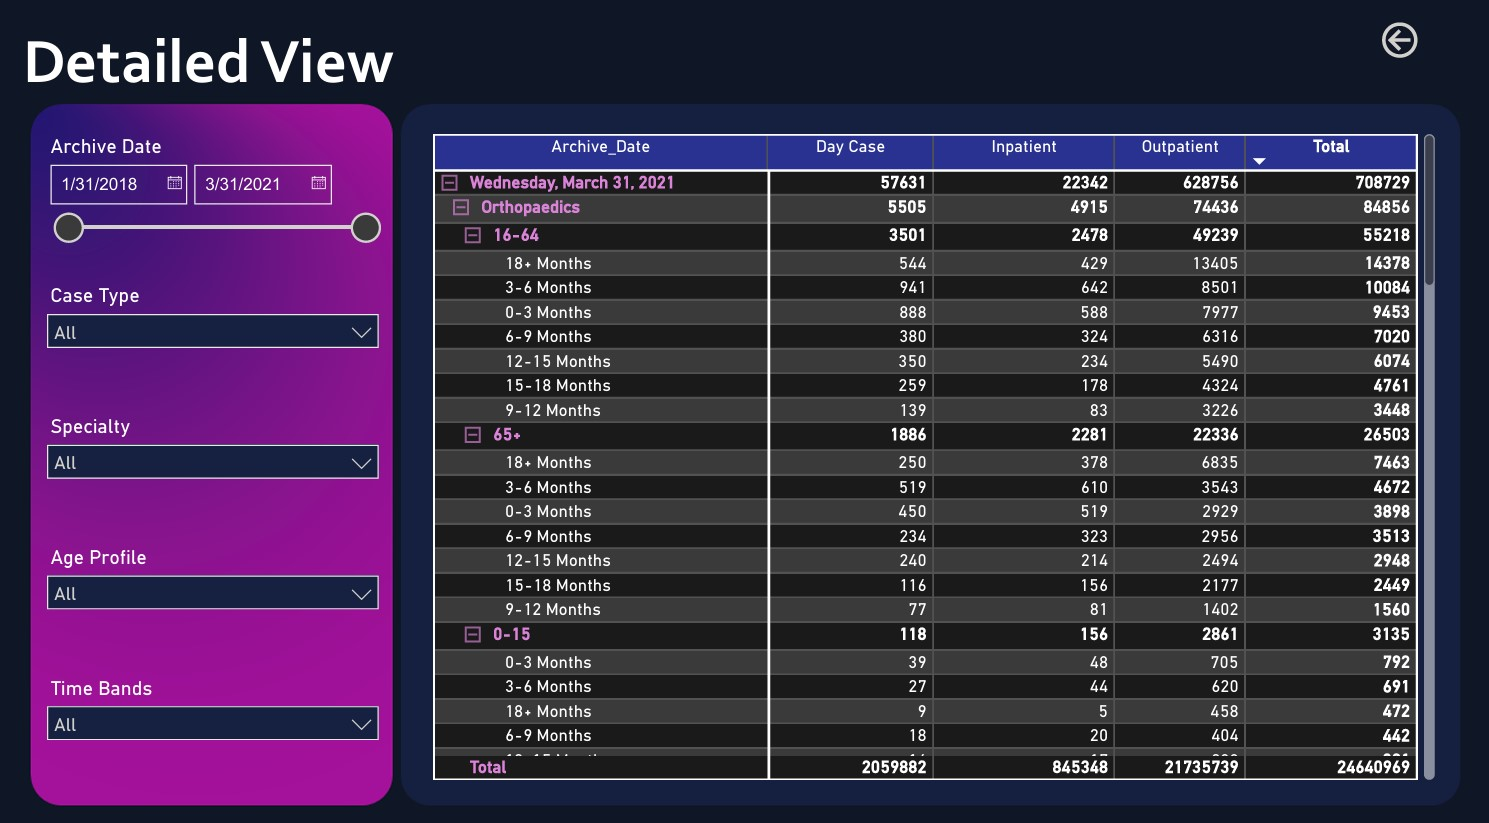

What the dashboard file says about the page in this screenshot:
{"tool":"powerbi","page":{"name":"Detailed","canvas":[1280,720],"ordinal":1},"visuals":[{"type":"slicer","fields":{"Values":["All_Data.Archive_Date"]},"box":[32,112,304,160],"z":0},{"type":"textbox","box":[16,16,352,80],"z":1000},{"type":"slicer","fields":{"Values":["All_Data.Specialty_Name"]},"box":[32,352,304,80],"z":2000},{"type":"slicer","fields":{"Values":["All_Data.Age_Profile"]},"box":[32,464,304,64],"z":3000},{"type":"slicer","fields":{"Values":["All_Data.Time_Bands"]},"box":[32,576,304,80],"z":4000},{"type":"pivotTable","fields":{"Columns":["All_Data.Case_Type"],"Rows":["All_Data.Archive_Date","All_Data.Specialty_Name","All_Data.Age_Profile","All_Data.Time_Bands"],"Values":["Sum(All_Data.Total)"]},"box":[368,112,867,563],"z":5000},{"type":"actionButton","box":[1180,15.5,99.5,40.4],"z":6000},{"type":"slicer","fields":{"Values":["All_Data.Case_Type"]},"box":[32.1,253.2,304.3,64.3],"z":7000}]}

Visuals, with their boxes in screenshot pixels (x1, y1, x2, y2), scaled from the page's 1280x720 canvas onto the 1489x823 screenshot:
slicer - All_Data.Archive_Date: BBox(37, 128, 391, 311)
textbox: BBox(19, 18, 428, 110)
slicer - All_Data.Specialty_Name: BBox(37, 402, 391, 494)
slicer - All_Data.Age_Profile: BBox(37, 530, 391, 604)
slicer - All_Data.Time_Bands: BBox(37, 658, 391, 750)
pivotTable - All_Data.Case_Type x All_Data.Archive_Date: BBox(428, 128, 1437, 772)
actionButton: BBox(1373, 18, 1488, 64)
slicer - All_Data.Case_Type: BBox(37, 289, 391, 363)
